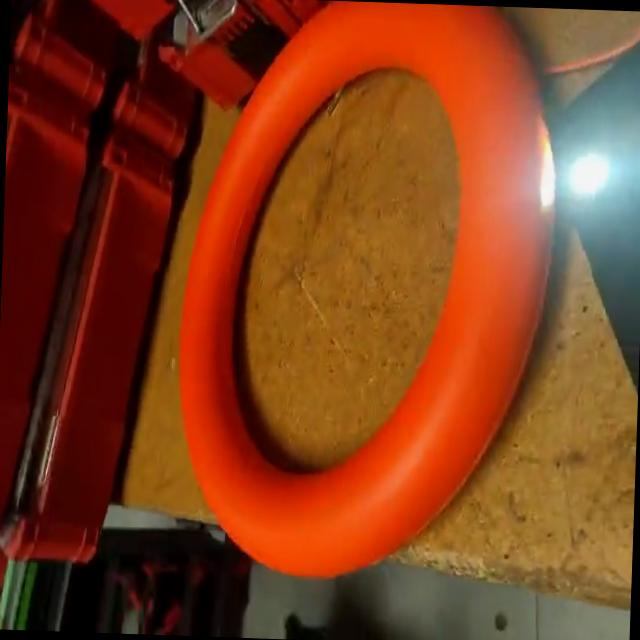note: (166, 0, 570, 592)
